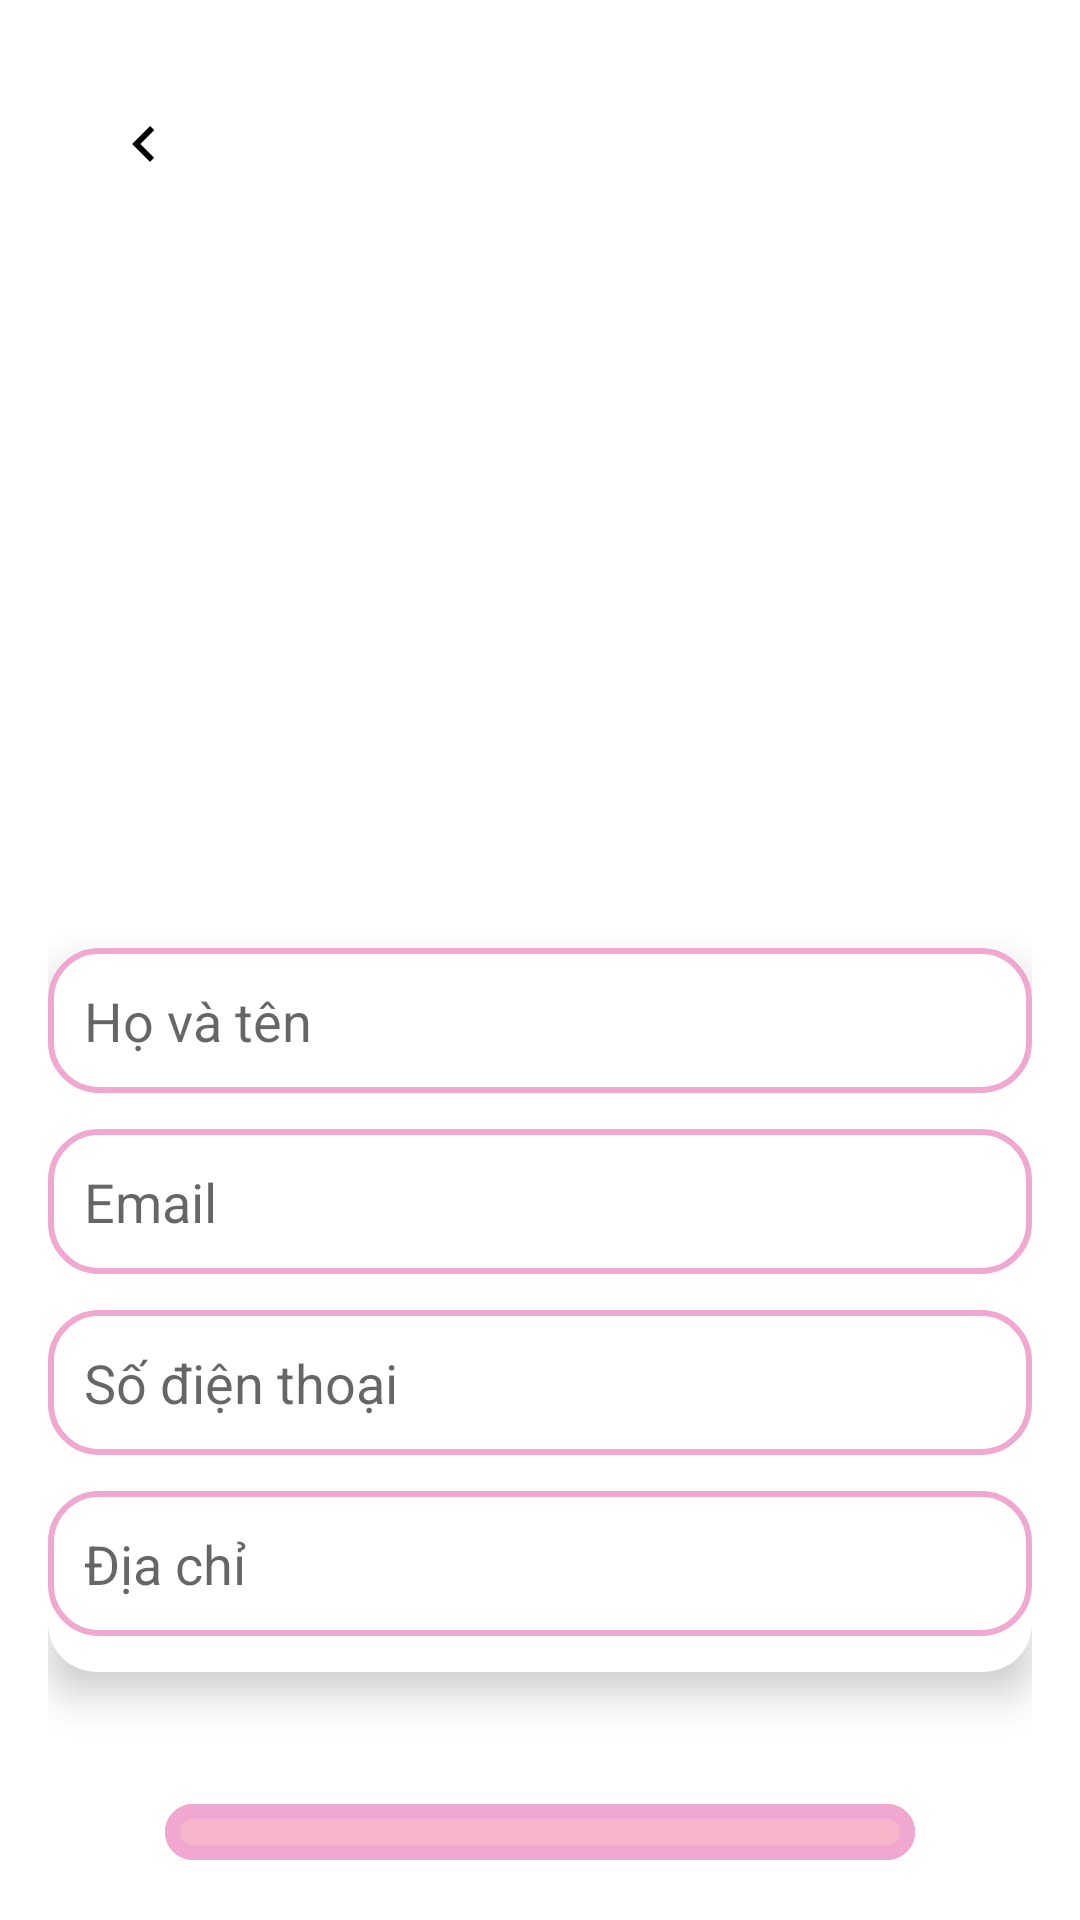

Icon bounding boxes for this 1080px x 1920px phone screenshot, format (x1, y1, x2, y2):
Quay lại: (132, 126, 154, 162)
